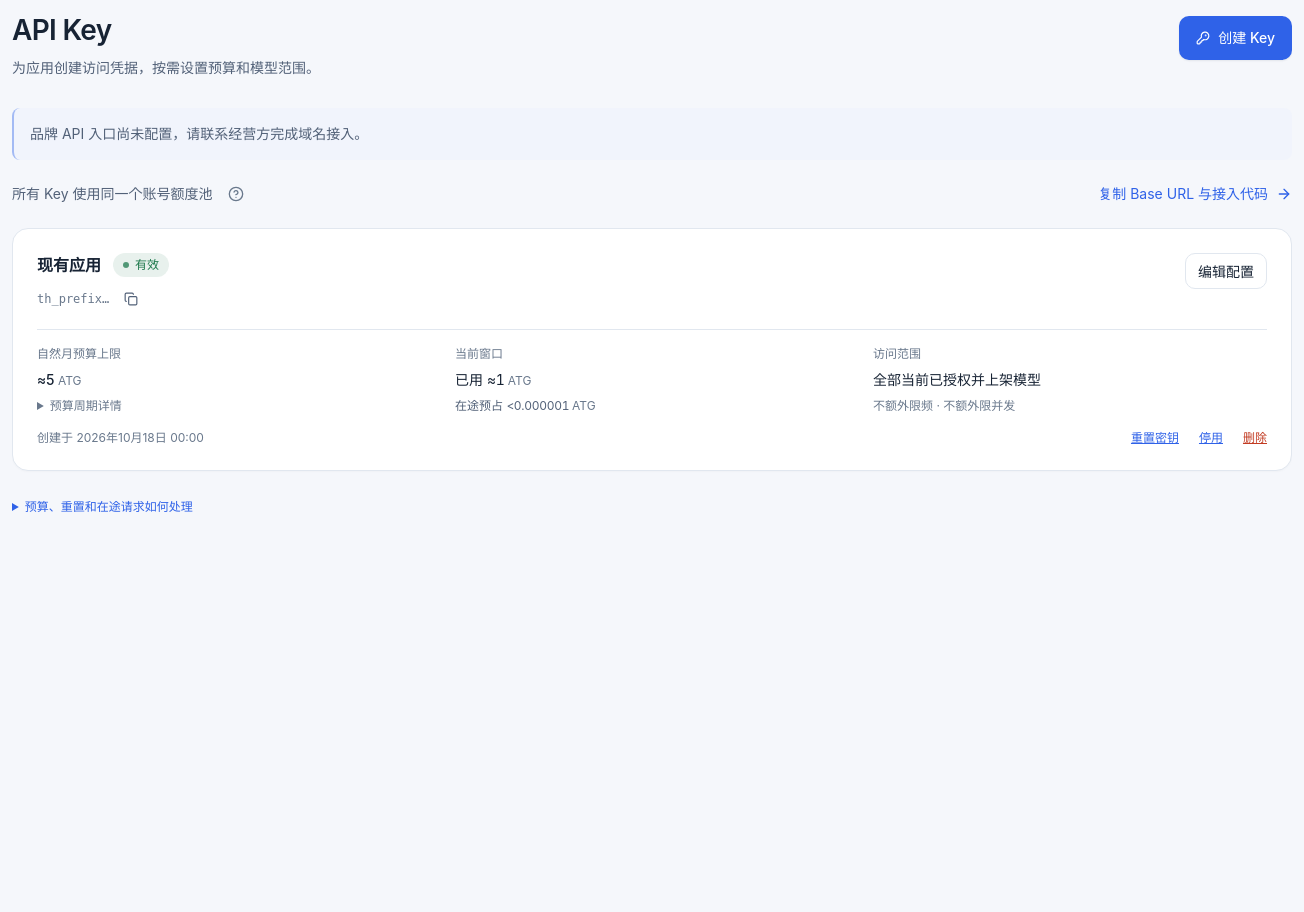
Test: does not replace an unresolved reset with a second destructive action
Step 1. Click the button "重置密钥" → (1155, 438), box x1=1131 y1=430 x2=1179 y2=446
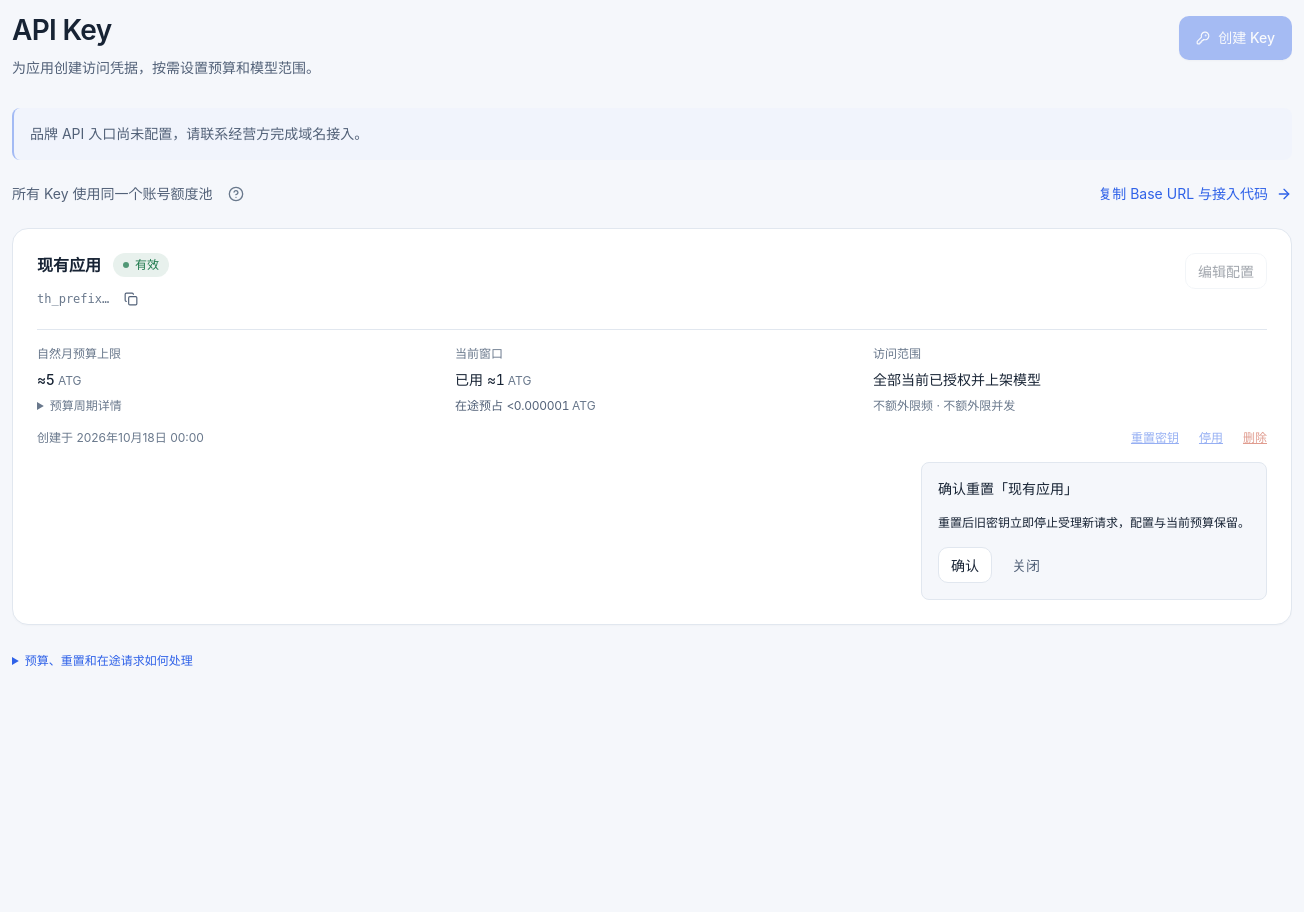
Step 2. Click the button "确认" → (965, 565), box x1=938 y1=547 x2=992 y2=583
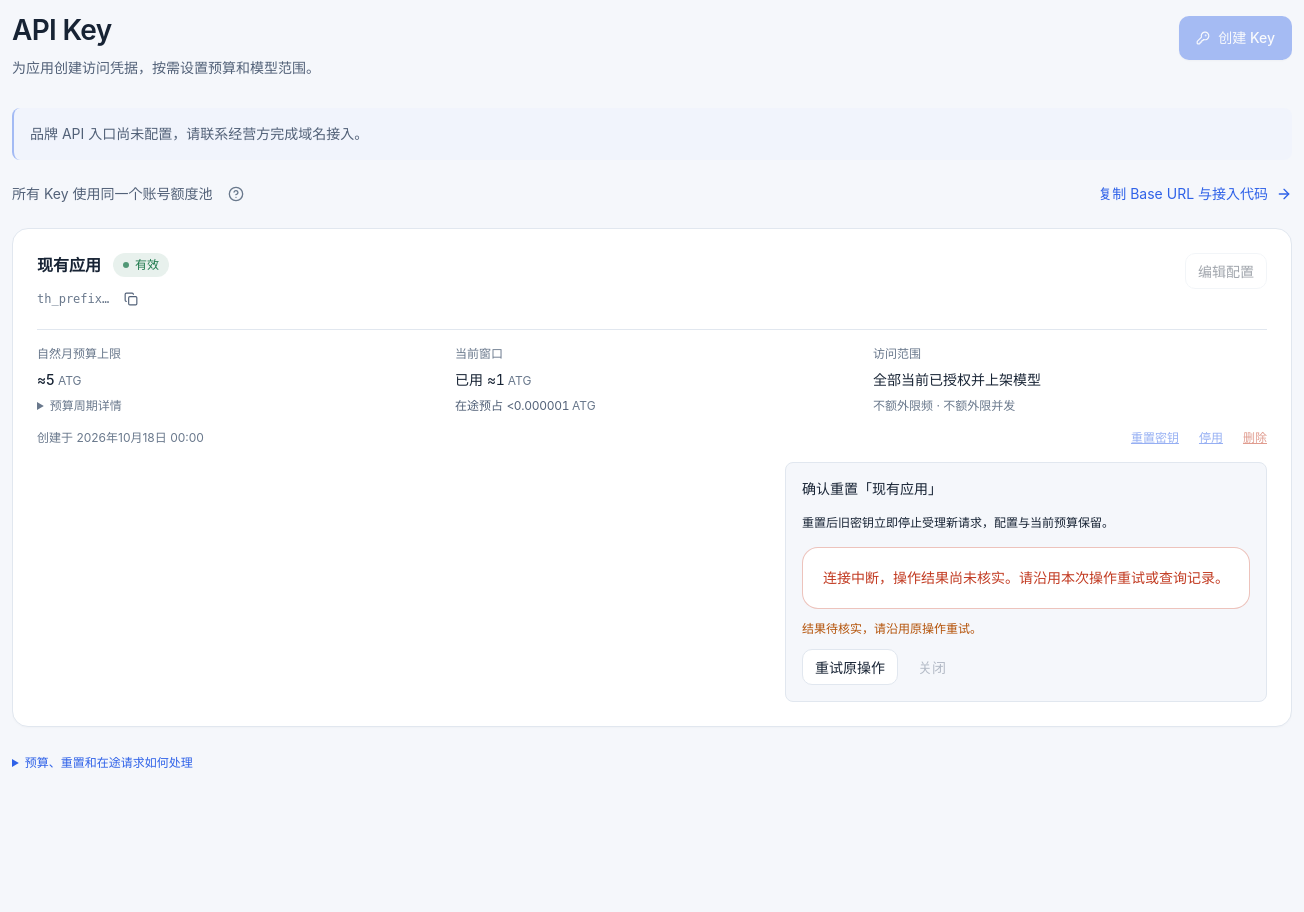
Check: the button "停用" is disabled, box x1=1199 y1=430 x2=1223 y2=446
Check: the button "删除" is disabled, box x1=1243 y1=430 x2=1267 y2=446
Check: the button "重试原操作" is shown
Step 3. Click the button "重试原操作" → (850, 667), box x1=802 y1=649 x2=898 y2=685
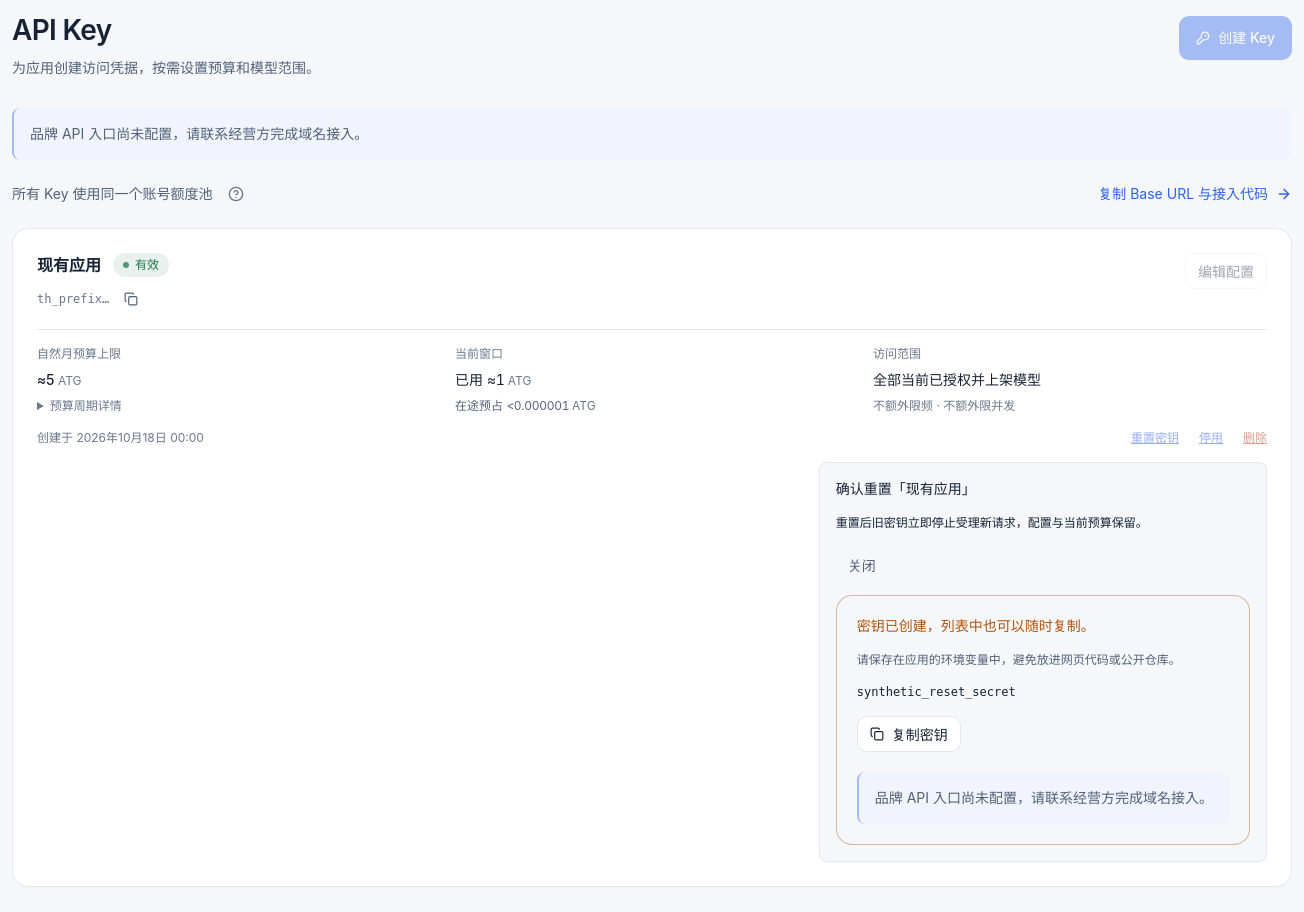
Check: the text "synthetic_reset_secret" is shown, box x1=857 y1=685 x2=1016 y2=699
